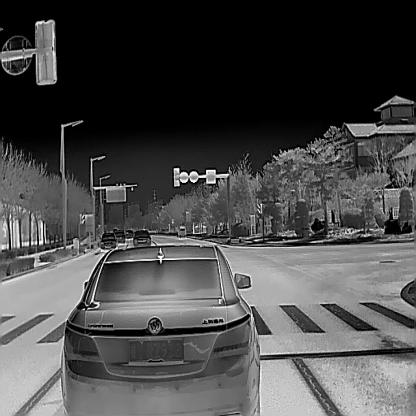car: (60, 245, 260, 415), (132, 228, 150, 247), (99, 232, 117, 248), (113, 229, 125, 243), (177, 227, 186, 238), (124, 229, 133, 238)
